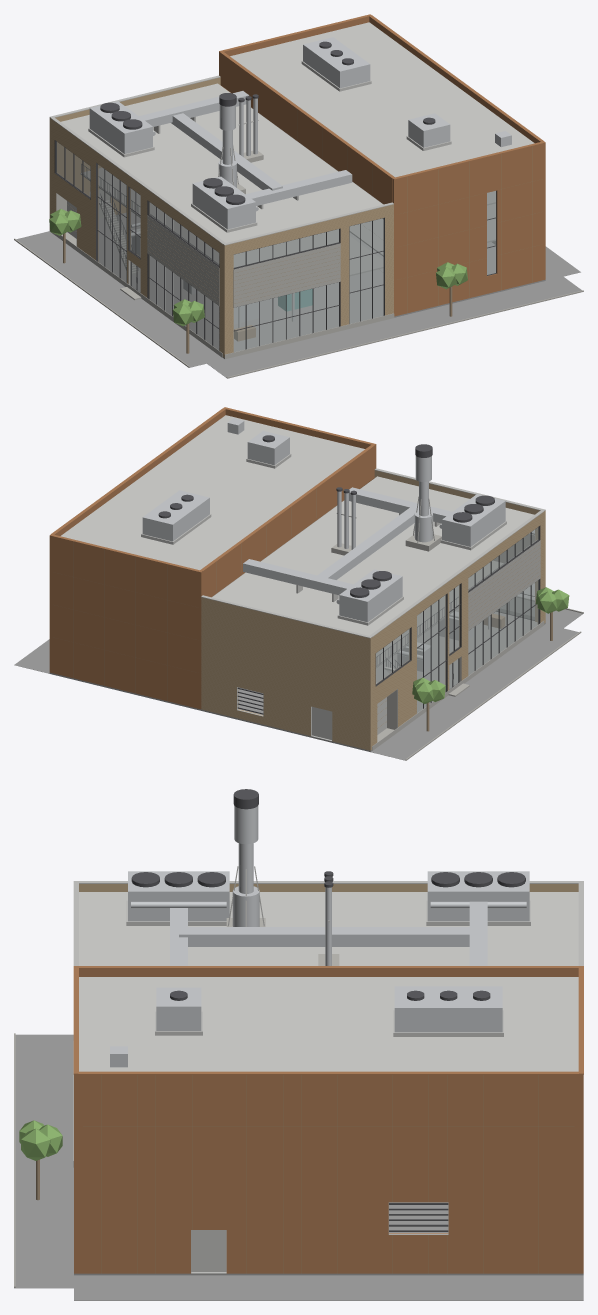
Rendered from clay-energy-centre-clay-v004.glb.
3 views of the same model, one above another, from view 1: azimuth 30°, elevation 25°; view 2: azimuth 150°, elevation 25°; view 3: azimuth 270°, elevation 25° (orthographic). The views are drawn at different scales.
Visible parts, largest first — view 1: CLAY_MEMBRANE, CLAY_CORTEN, CLAY_FOUNDATION, CLAY_GLASS, CLAY_STEEL, CLAY_WALL, CLAY_CONCRETE, CLAY_FLOOR, CLAY_TRIM, CLAY_PALE, CLAY_JOINT, CLAY_HARDWARE (+4 smaller); view 2: CLAY_MEMBRANE, CLAY_CORTEN, CLAY_WALL, CLAY_STEEL, CLAY_FOUNDATION, CLAY_GLASS, CLAY_CONCRETE, CLAY_PALE, CLAY_JOINT, CLAY_TRIM, CLAY_HARDWARE, CLAY_FLOOR (+2 smaller); view 3: CLAY_CORTEN, CLAY_MEMBRANE, CLAY_FOUNDATION, CLAY_STEEL, CLAY_PALE, CLAY_HARDWARE, CLAY_JOINT, CLAY_WALL, CLAY_PLANTING.
Part boxes in pixels (<box>): CLAY_MEMBRANE: <box>61,22,534,242</box>; CLAY_CORTEN: <box>219,14,545,316</box>; CLAY_FOUNDATION: <box>16,211,581,378</box>; CLAY_GLASS: <box>56,142,495,352</box>; CLAY_STEEL: <box>89,37,511,327</box>; CLAY_WALL: <box>49,77,393,357</box>; CLAY_CONCRETE: <box>51,150,394,359</box>; CLAY_FLOOR: <box>80,107,495,276</box>; CLAY_TRIM: <box>54,140,496,350</box>; CLAY_PALE: <box>49,61,495,274</box>; CLAY_JOINT: <box>51,109,542,352</box>; CLAY_HARDWARE: <box>81,41,435,283</box>; CLAY_MEMBRANE: <box>60,415,534,635</box>; CLAY_CORTEN: <box>49,407,376,709</box>; CLAY_WALL: <box>201,470,545,750</box>; CLAY_STEEL: <box>142,418,505,683</box>; CLAY_FOUNDATION: <box>14,598,582,760</box>; CLAY_GLASS: <box>376,527,538,712</box>; CLAY_CONCRETE: <box>331,533,544,750</box>; CLAY_PALE: <box>141,453,545,741</box>; CLAY_JOINT: <box>53,488,543,749</box>; CLAY_TRIM: <box>375,525,540,708</box>; CLAY_HARDWARE: <box>158,435,513,714</box>; CLAY_FLOOR: <box>212,500,503,668</box>; CLAY_CORTEN: <box>73,966,583,1273</box>; CLAY_MEMBRANE: <box>79,892,578,1071</box>; CLAY_FOUNDATION: <box>14,1034,583,1300</box>; CLAY_STEEL: <box>110,806,529,1067</box>; CLAY_PALE: <box>73,866,583,1273</box>; CLAY_HARDWARE: <box>131,789,525,1231</box>; CLAY_JOINT: <box>83,1075,574,1273</box>; CLAY_WALL: <box>79,884,578,891</box>; CLAY_PLANTING: <box>19,1120,62,1160</box>.
Bounding box in the file's own units: 44.1 × 21.9 × 38.03.
